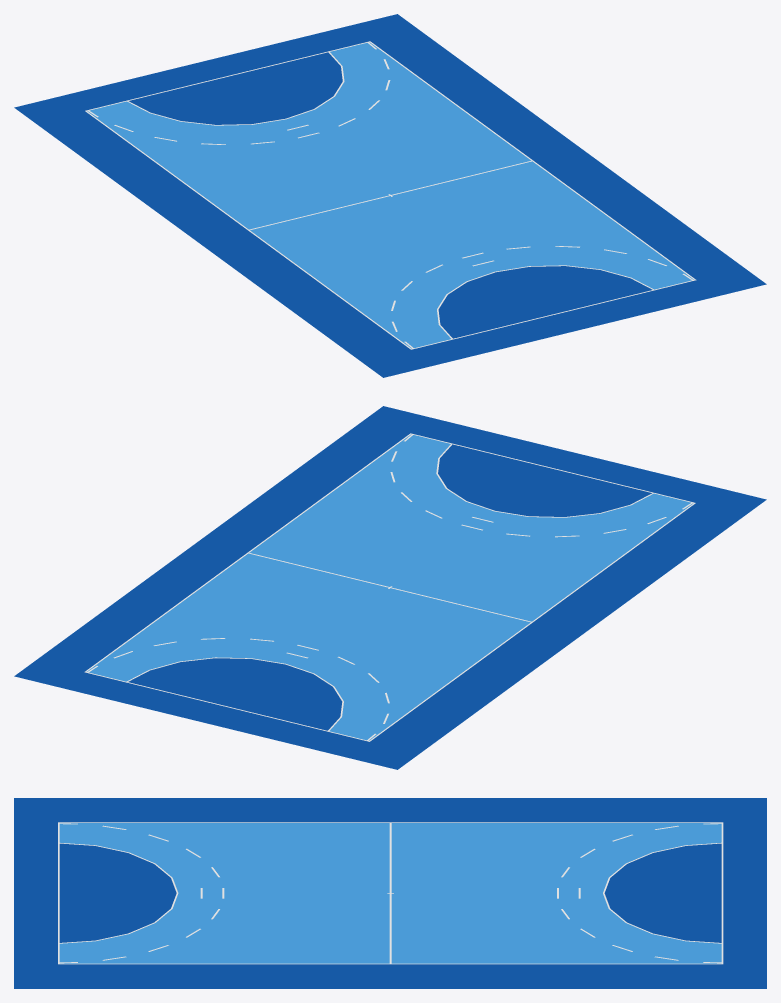
The model's file is HandballCourt.fbx.
3 renders of one model, top to bottom at view 1: azimuth 30°, elevation 25°; view 2: azimuth 150°, elevation 25°; view 3: azimuth 270°, elevation 25°, orthographic.
Parts seen in each view (by area): view 1: HandballCourt; view 2: HandballCourt; view 3: HandballCourt.
Part boxes in pixels (x1,y1,x2,y2): HandballCourt: (14,14,766,377); HandballCourt: (14,406,766,769); HandballCourt: (14,798,766,988).
Size of the model in its own units: 2720 by 2.48 by 4536.
